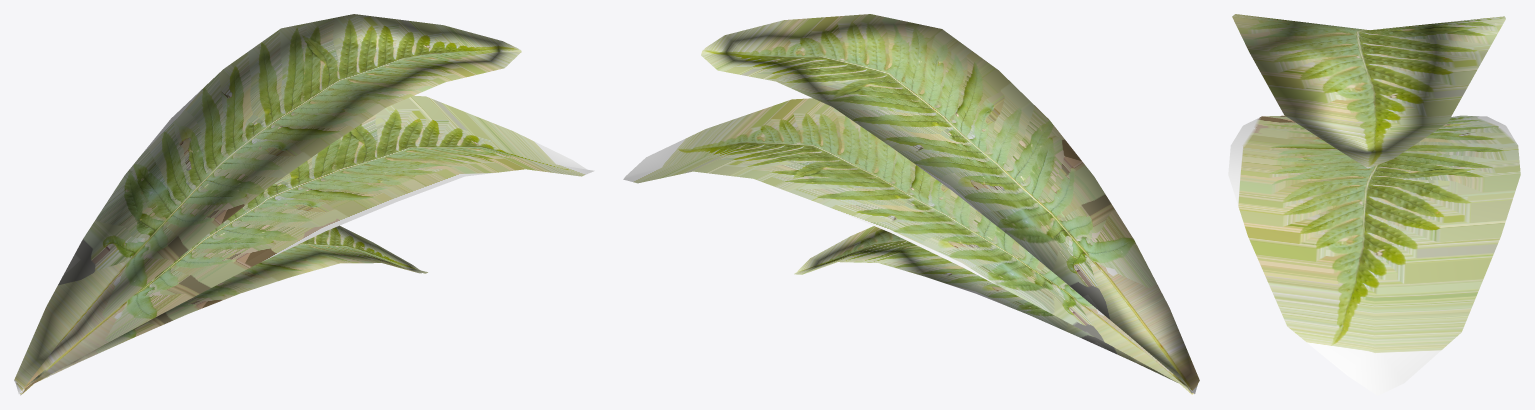
Rendered from leaf2.glb.
3 renders of one model, left to right at view 1: azimuth 30°, elevation 25°; view 2: azimuth 150°, elevation 25°; view 3: azimuth 270°, elevation 25°, orthographic. The views are drawn at different scales.
Visible parts, largest first — view 1: fern1.002, fern1, fern1.001; view 2: fern1.002, fern1, fern1.001; view 3: fern1, fern1.002.
Part boxes in pixels (x1,y1,x2,y2): fern1.002: [14, 14, 521, 393]; fern1: [20, 95, 594, 395]; fern1.001: [15, 225, 427, 393]; fern1.002: [701, 14, 1199, 393]; fern1: [623, 98, 1193, 395]; fern1.001: [794, 226, 1197, 393]; fern1: [1228, 115, 1520, 395]; fern1.002: [1232, 14, 1505, 168].
Size of the model in its own units: 5.64 by 2.42 by 1.96.
3 materials, 3 textured.
